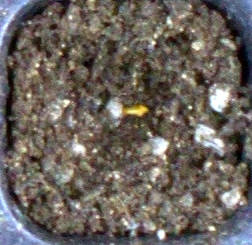pepper seed: (47, 44, 197, 161)
